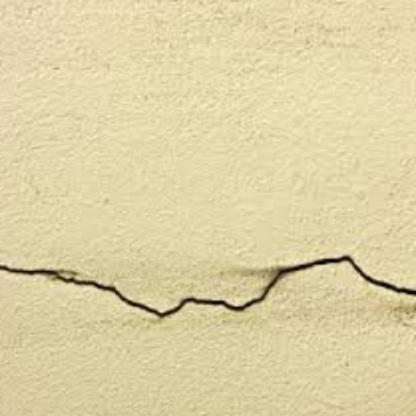Cracks: (0, 251, 416, 324)
